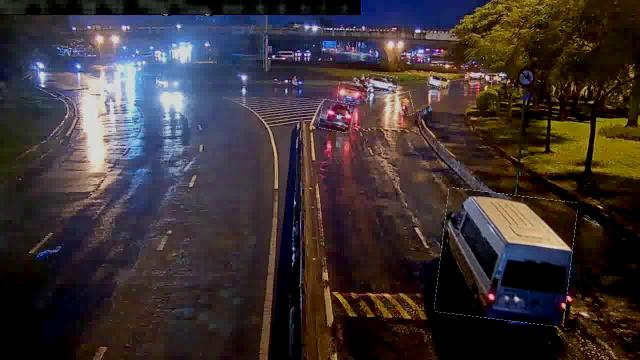Bike: (398, 92, 414, 115)
Bus: (438, 192, 574, 324)
Car: (320, 100, 354, 132), (338, 83, 368, 103), (368, 74, 398, 92), (428, 72, 448, 88)
